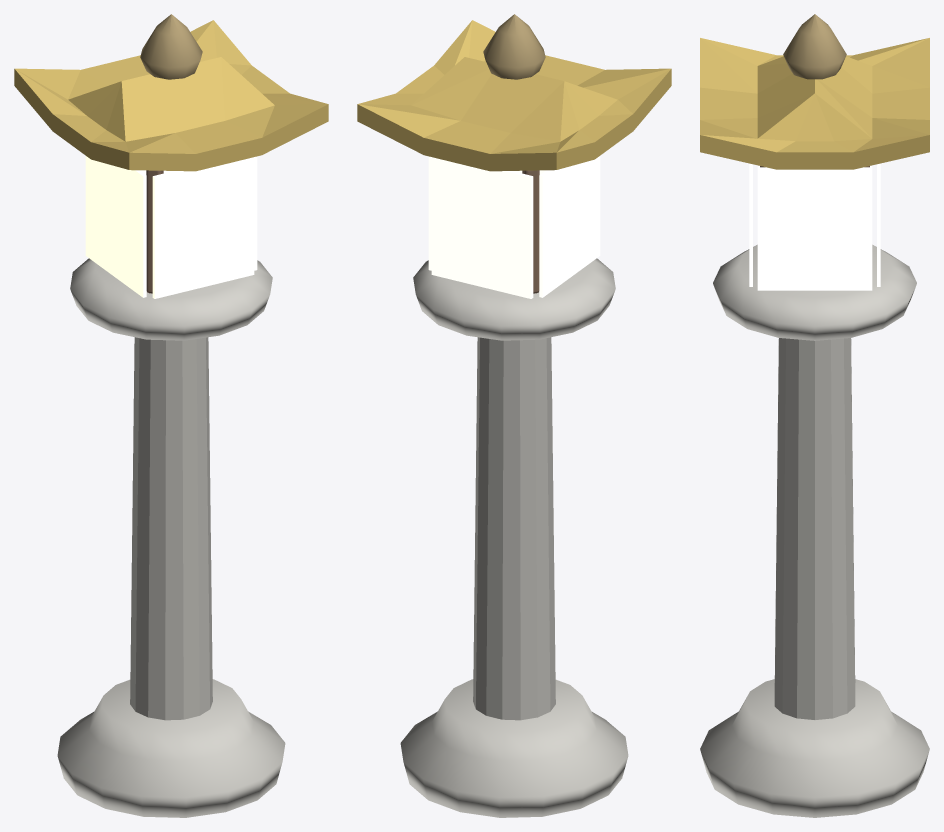
Rendered from lantern-standing.glb.
The picture shows the model from 3 angles, left to right: view 1: azimuth 30°, elevation 25°; view 2: azimuth 150°, elevation 25°; view 3: azimuth 270°, elevation 25°; orthographic projection.
Parts seen in each view (by area): view 1: standing-garden-lantern; view 2: standing-garden-lantern; view 3: standing-garden-lantern.
Part boxes in pixels (box(x1,y1,x2,y2)): standing-garden-lantern: box(14, 14, 328, 817); standing-garden-lantern: box(357, 14, 671, 817); standing-garden-lantern: box(700, 14, 929, 817).
Size of the model in its own units: 0.72 by 2.62 by 0.72.
